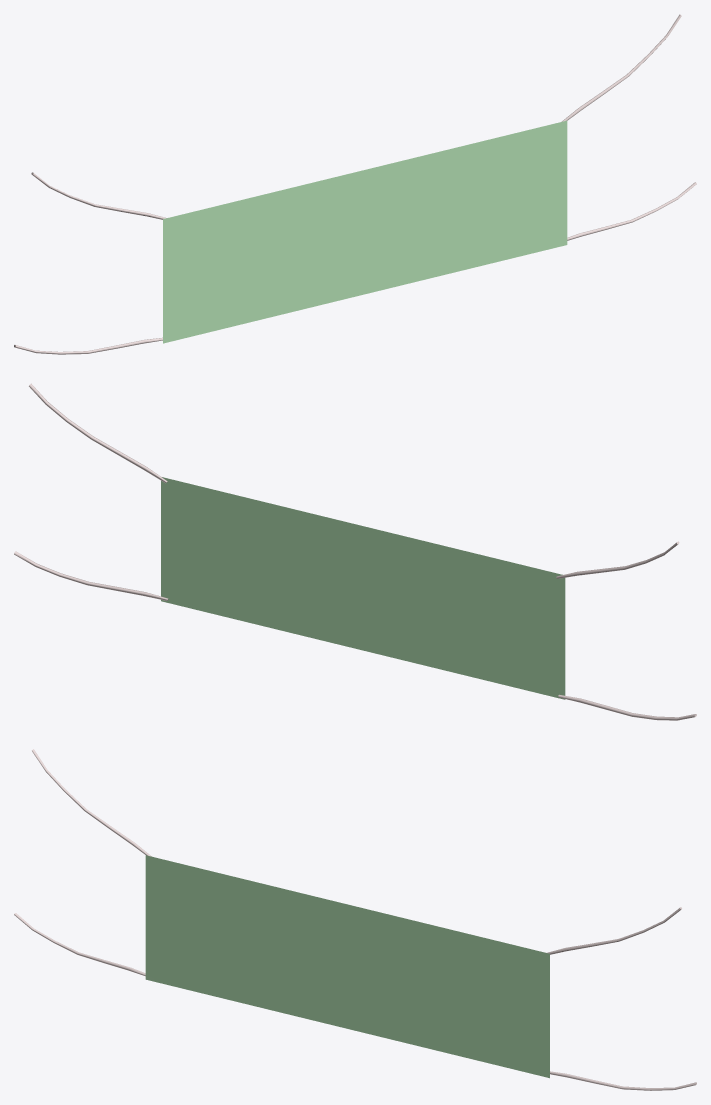
Rendered from FlyBanner01.fbx.
3 renders of one model, top to bottom at view 1: azimuth 30°, elevation 25°; view 2: azimuth 150°, elevation 25°; view 3: azimuth 330°, elevation 25°, orthographic.
Parts seen in each view (by area): view 1: Plane; view 2: Plane; view 3: Plane.
Boxes of the visible parts, x1,y1,x2,y2 form: Plane: (14,14,696,354); Plane: (14,383,696,720); Plane: (14,749,696,1090).
Bounding box in the file's own units: 88.28 × 2.25 × 24.05.
